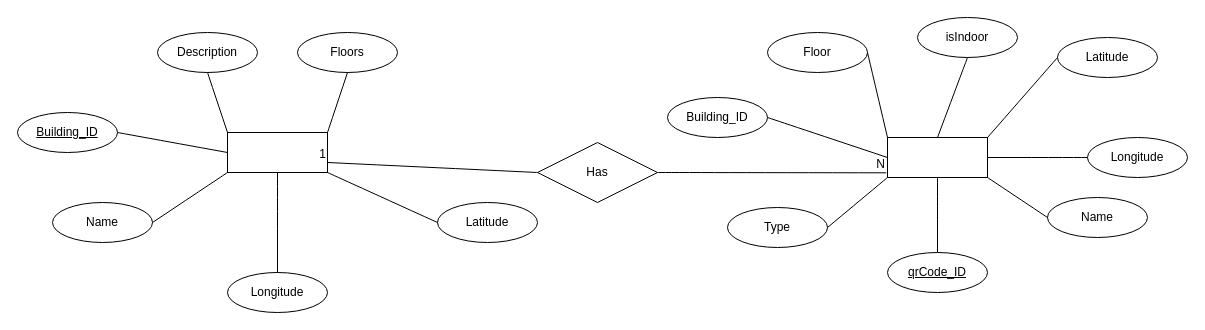
The diagram is 1205 pixels wide and 330 high, and some of its shapes have lost their labels. Here are the shapes that lost their labels. From the top down, the centre of each, then its label:
pixel 277 152: Building
pixel 937 157: Pois
